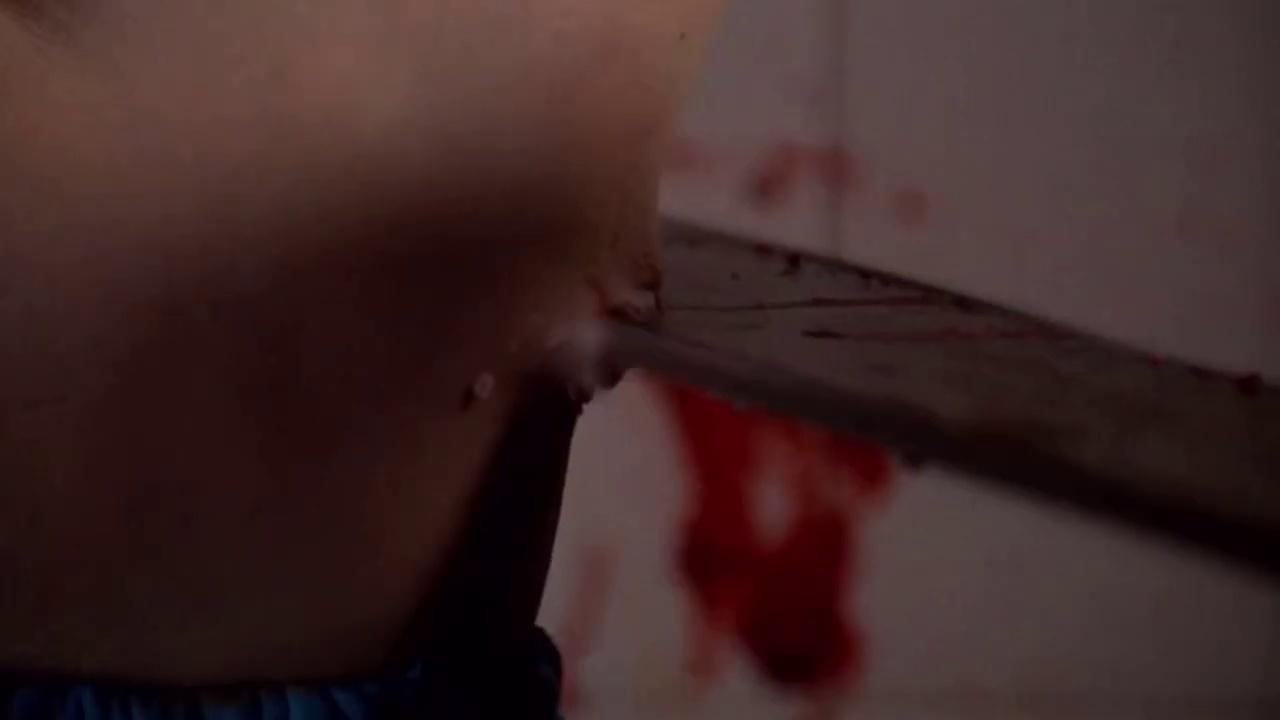Fire: (607, 116, 1280, 702)
